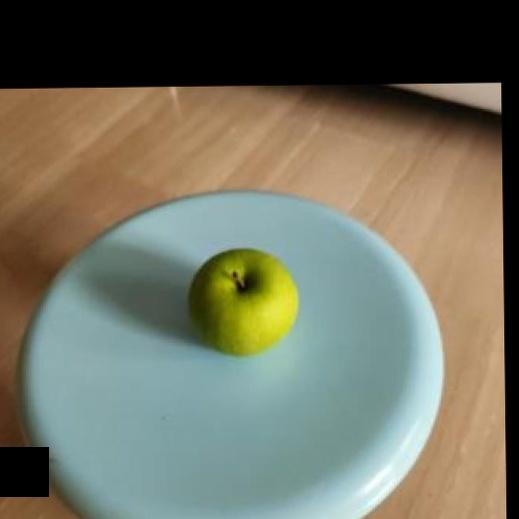green apple: (188, 245, 300, 351)
